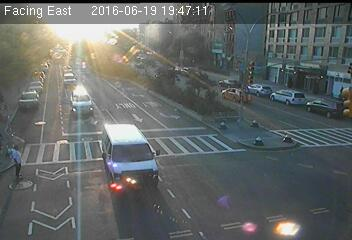neg: (290, 61, 316, 96), (132, 35, 158, 69), (119, 114, 143, 146), (272, 193, 294, 222), (166, 188, 185, 214), (191, 85, 209, 110), (49, 89, 67, 113), (80, 64, 96, 86), (231, 153, 246, 173), (275, 134, 290, 154), (236, 97, 247, 111)
pos: (4, 141, 31, 177)
